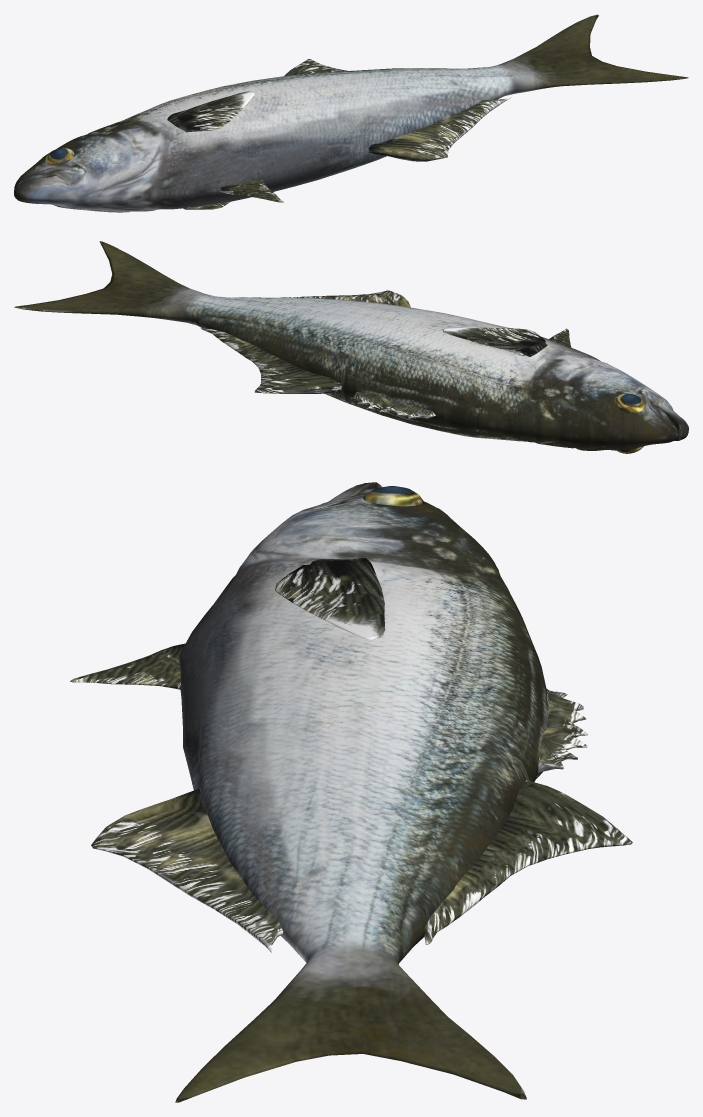
File: Fish.fbx
The picture shows the model from 3 angles, top to bottom: view 1: azimuth 30°, elevation 25°; view 2: azimuth 150°, elevation 25°; view 3: azimuth 270°, elevation 25°; orthographic projection. The views are drawn at different scales.
Visible parts, largest first — view 1: Tailor_LOD0_Plane_001, Object001; view 2: Tailor_LOD0_Plane_001, Object001; view 3: Tailor_LOD0_Plane_001, Object001.
Boxes of the visible parts, bbox=[...] form: Tailor_LOD0_Plane_001: bbox=[14, 14, 688, 212]; Object001: bbox=[45, 148, 74, 165]; Tailor_LOD0_Plane_001: bbox=[14, 241, 688, 450]; Object001: bbox=[615, 393, 645, 453]; Tailor_LOD0_Plane_001: bbox=[70, 482, 632, 1102]; Object001: bbox=[363, 486, 424, 506].
Size of the model in its own units: 16.06 by 2.17 by 6.27.
Materials: 1 (1 with a texture image).
